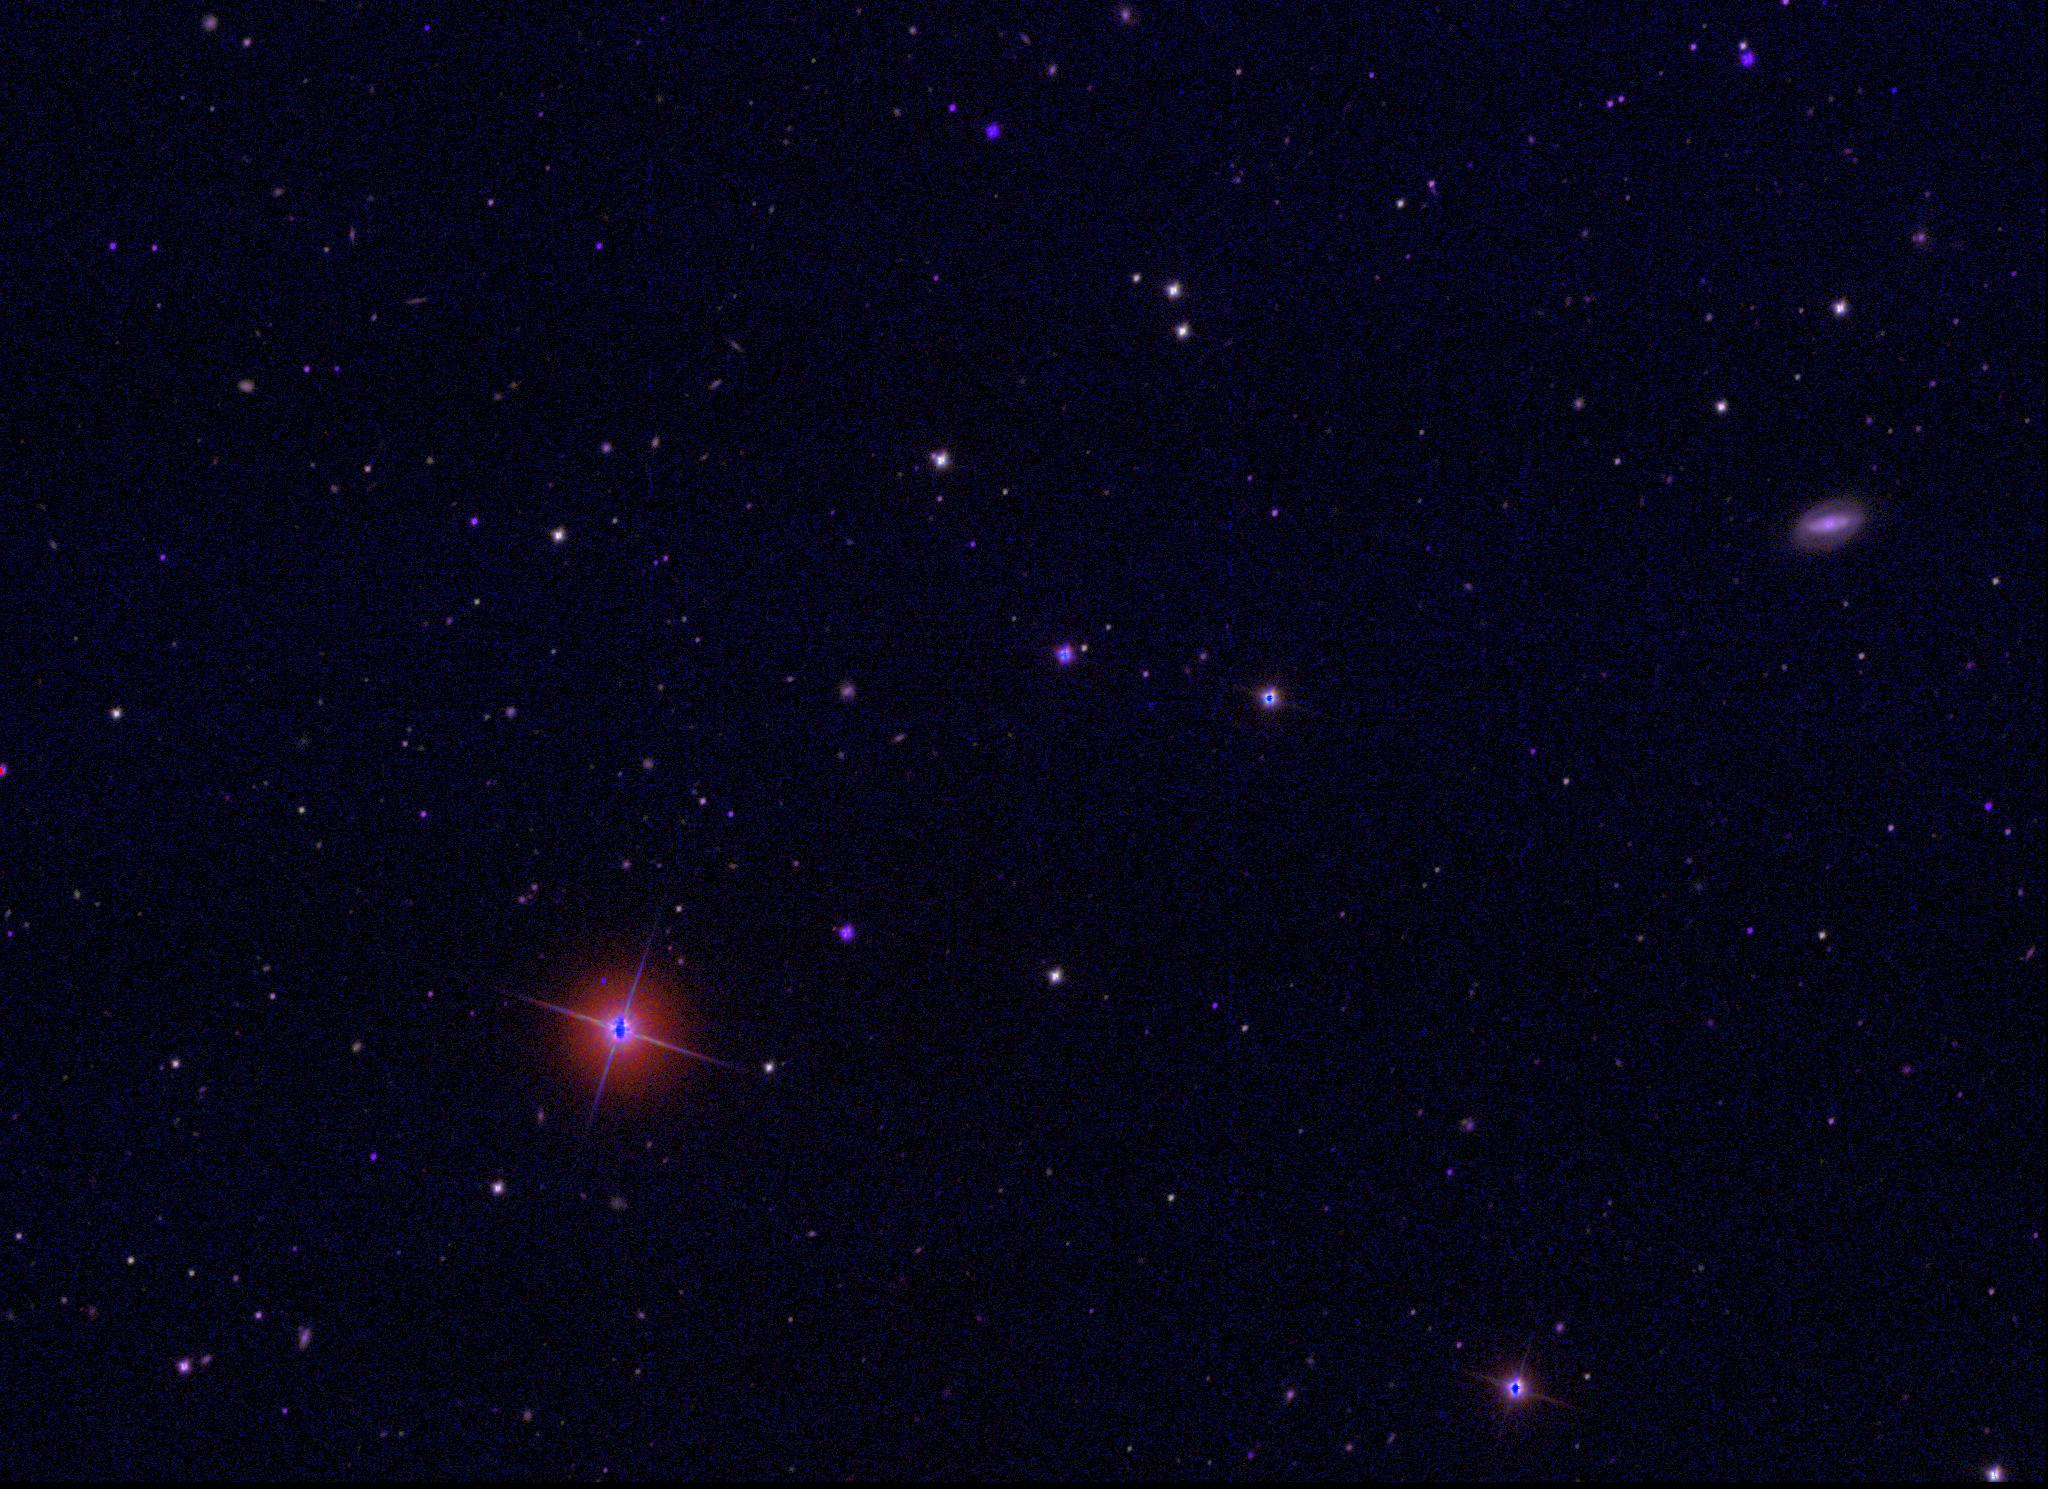L: (1884, 81, 1899, 95)
